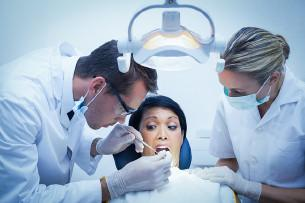NONE: (135, 116, 187, 168), (90, 82, 142, 131)
OK: (223, 68, 273, 111)
